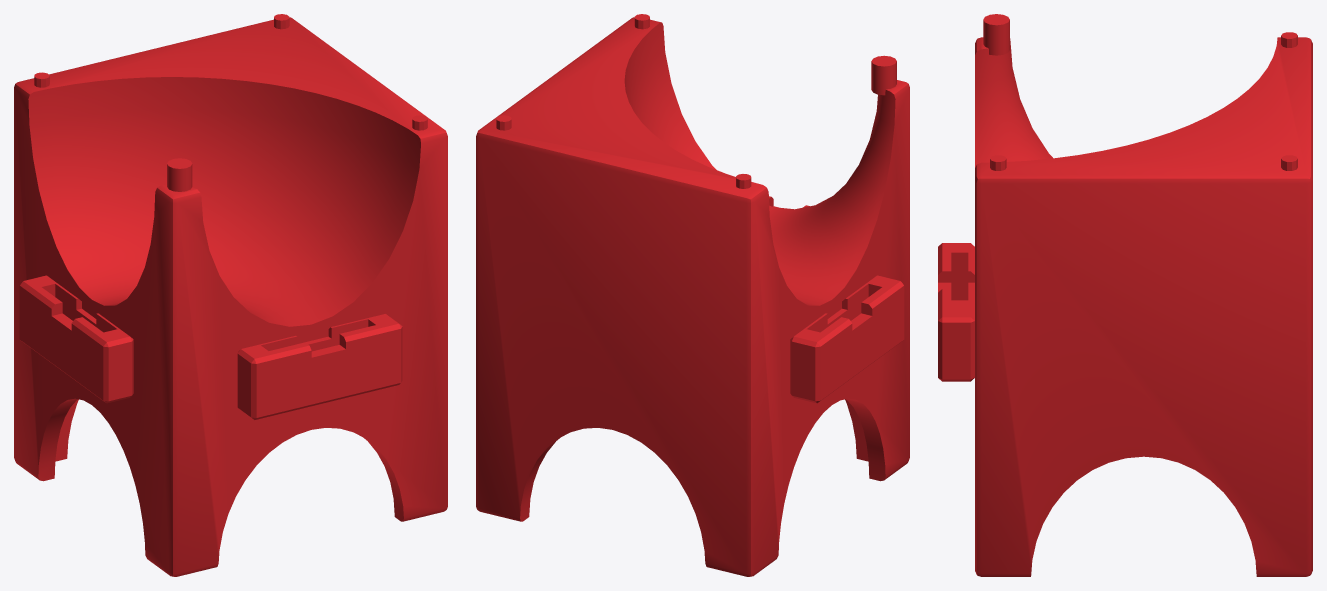
The picture shows the model from 3 angles, left to right: view 1: azimuth 30°, elevation 25°; view 2: azimuth 150°, elevation 25°; view 3: azimuth 270°, elevation 25°; orthographic projection. The views are drawn at different scales.
Parts seen in each view (by area): view 1: B-05; view 2: B-05; view 3: B-05.
Boxes of the visible parts, x1,y1,x2,y2 form: B-05: (14, 14, 447, 576); B-05: (476, 14, 909, 576); B-05: (938, 14, 1312, 576).
Size of the model in its own units: 0.0448 by 0.0562 by 0.0448.
